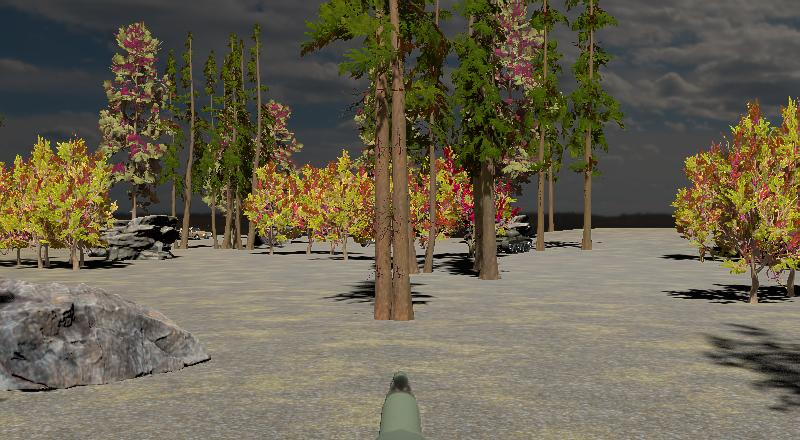Tank: (462, 225, 536, 257), (492, 227, 536, 255)
